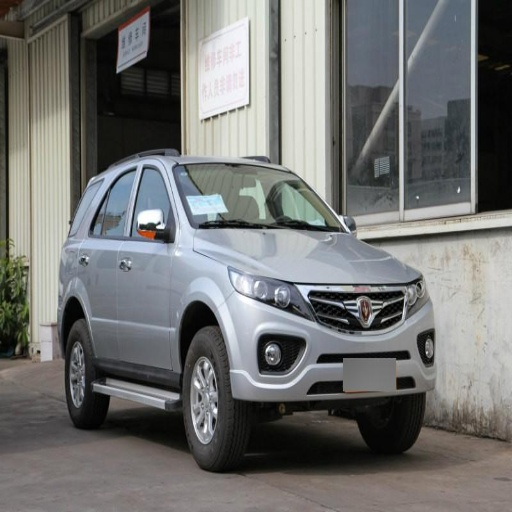front_bumper: (225, 282, 437, 400)
front_right_door: (117, 162, 176, 378)
front_right_light: (230, 269, 308, 314)
hood: (196, 230, 420, 281)
